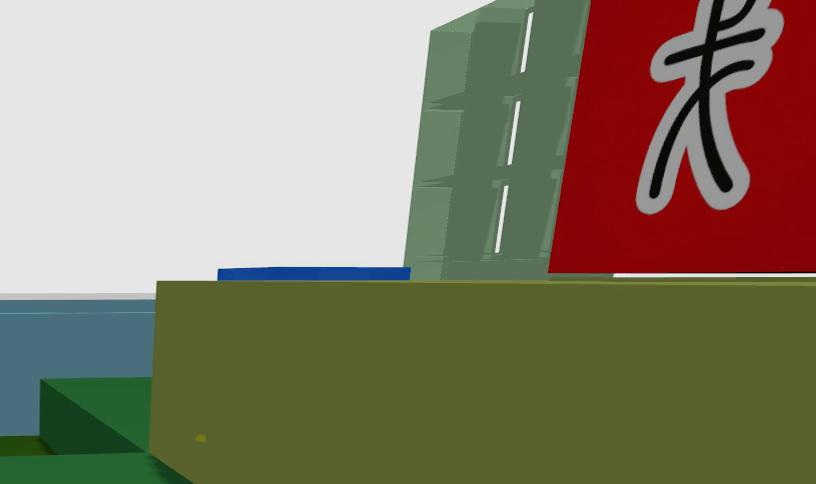KFS_FAKE: (550, 0, 814, 270), (636, 0, 782, 214)
KFS_REAL: (218, 265, 410, 281)
